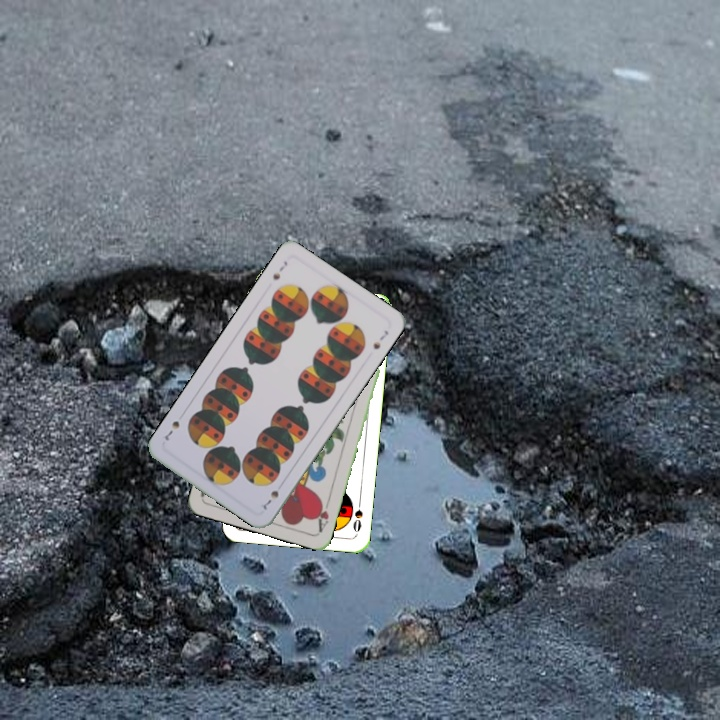HA: (312, 494, 333, 535)
S7: (256, 486, 281, 512), (268, 257, 290, 283)
SO: (349, 496, 365, 537)
